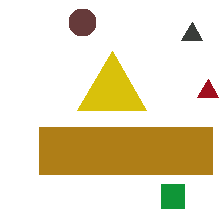circle: (69, 9, 95, 35)
rectangle: (39, 127, 212, 174), (161, 184, 184, 208)
triangle: (77, 51, 146, 110), (181, 22, 202, 40), (197, 79, 218, 97)
